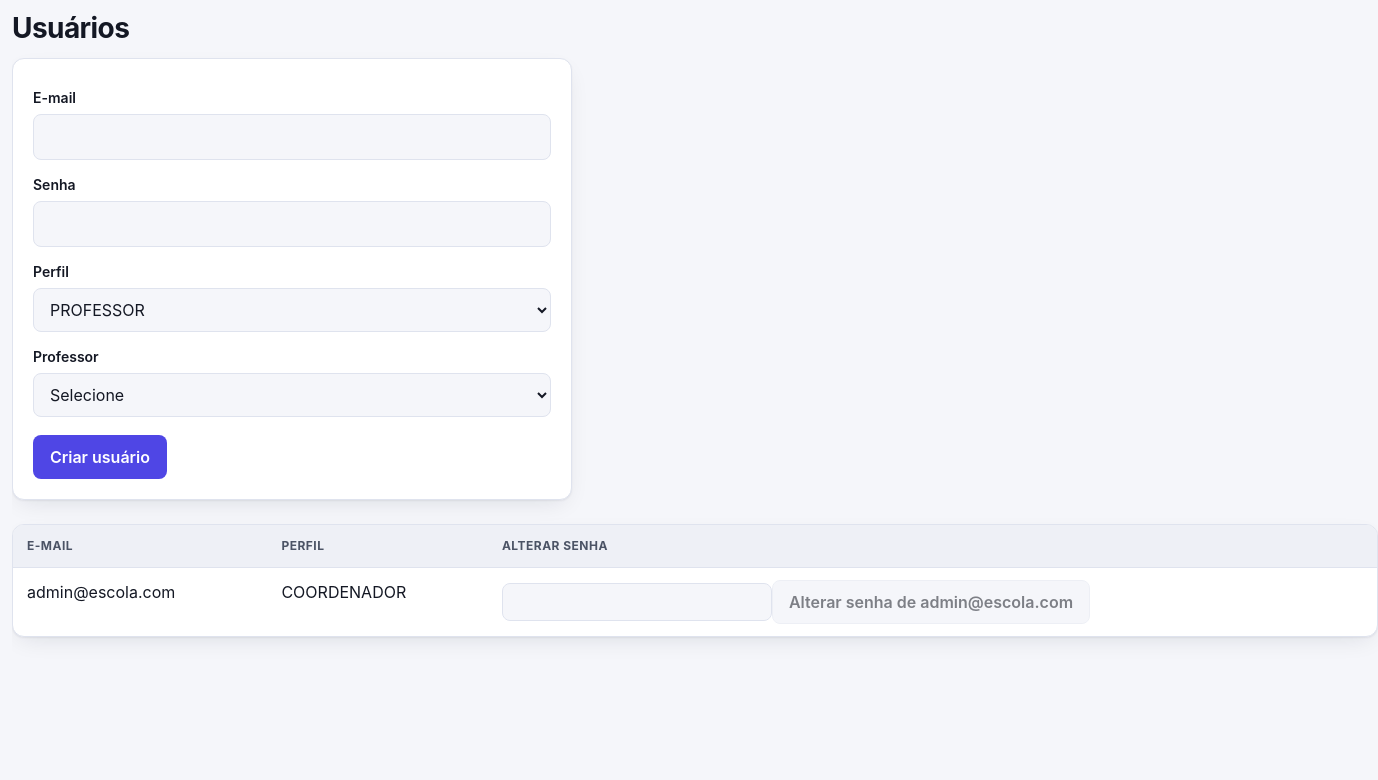
it: UsuariosPage › changes a usuário password without ever rendering it
Type "SenhaNova123" into the password field named "Nova senha de admin@escola.com". click: (637, 602)
box: [502,583,772,621]
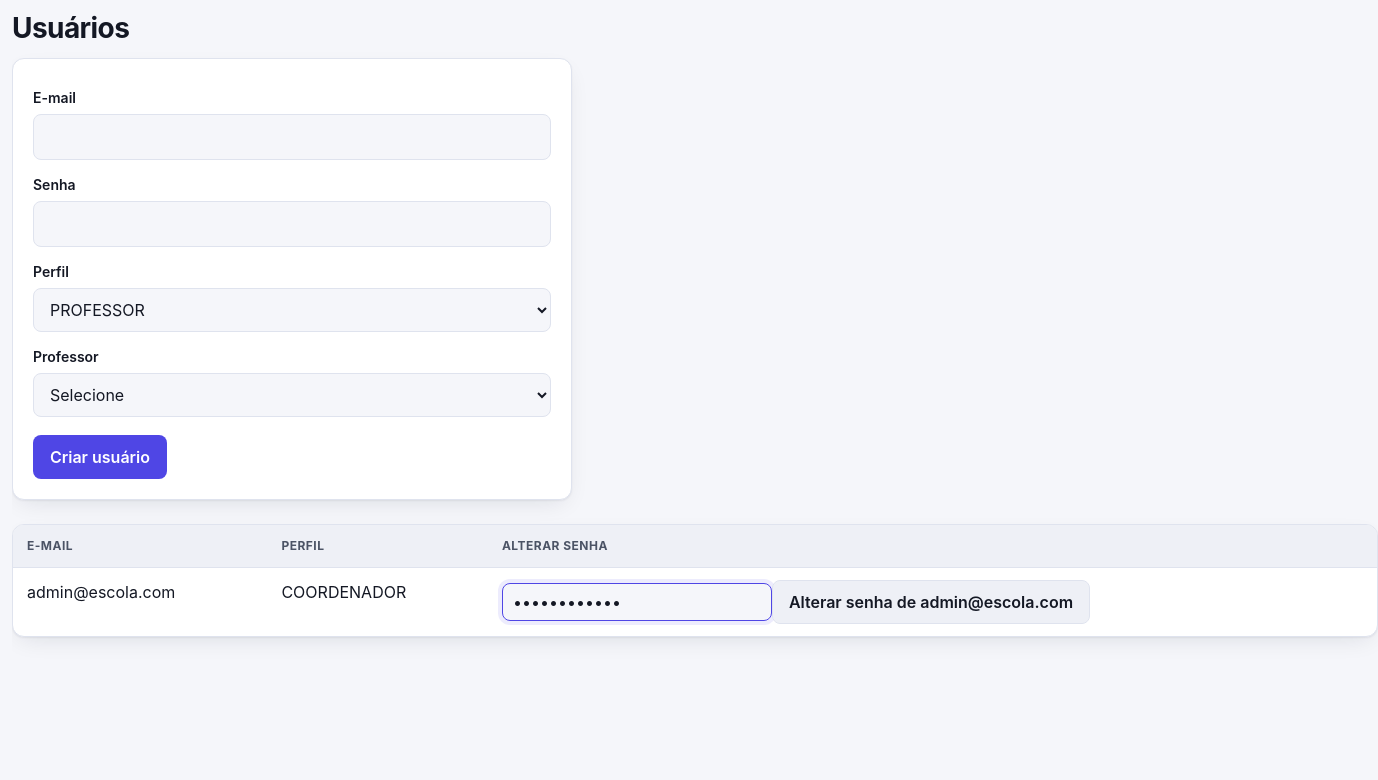
Click the button "Alterar senha de admin@escola.com". click: (931, 602)
box: [772,580,1090,624]
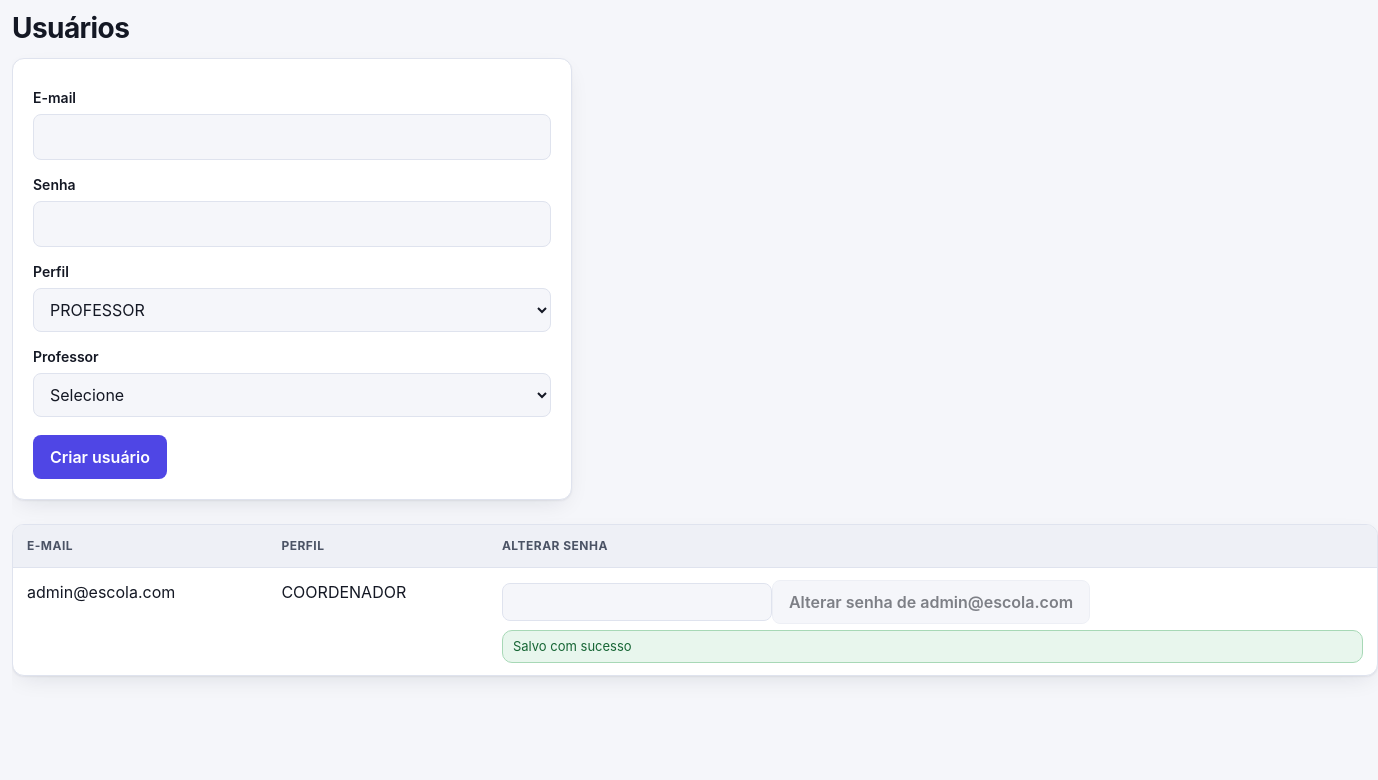
Expected: the text "Salvo com sucesso" is shown, [502,630,1363,663]
Expected: the password field named "Nova senha de admin@escola.com" is empty, [502,583,772,621]
